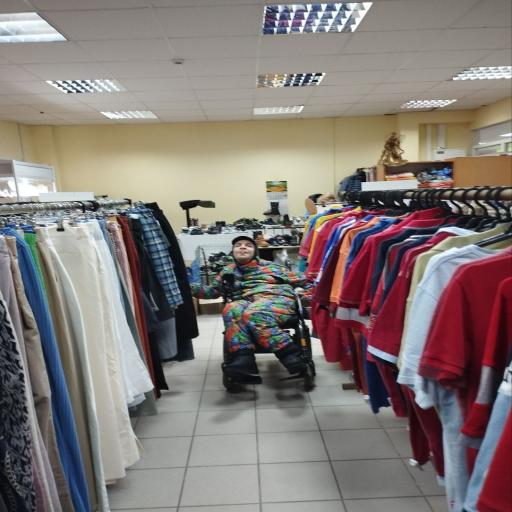crosswalk: (191, 235, 309, 382)
road: (221, 281, 316, 390)
